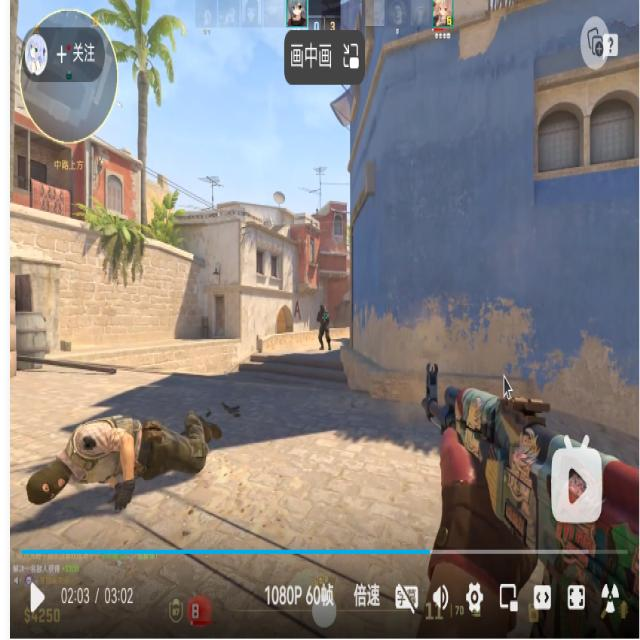person: (317, 304, 332, 351)
